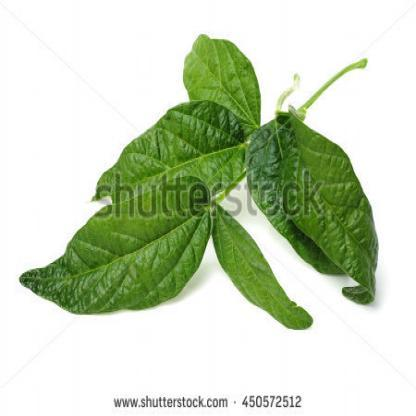Soyabean leaf: (11, 177, 219, 315), (86, 96, 264, 210), (206, 197, 318, 335), (184, 28, 271, 135)
